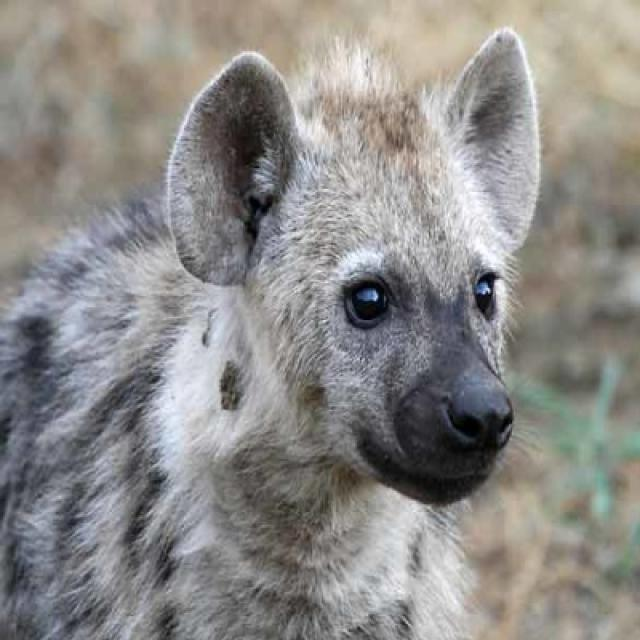hyena: (0, 27, 542, 638)
